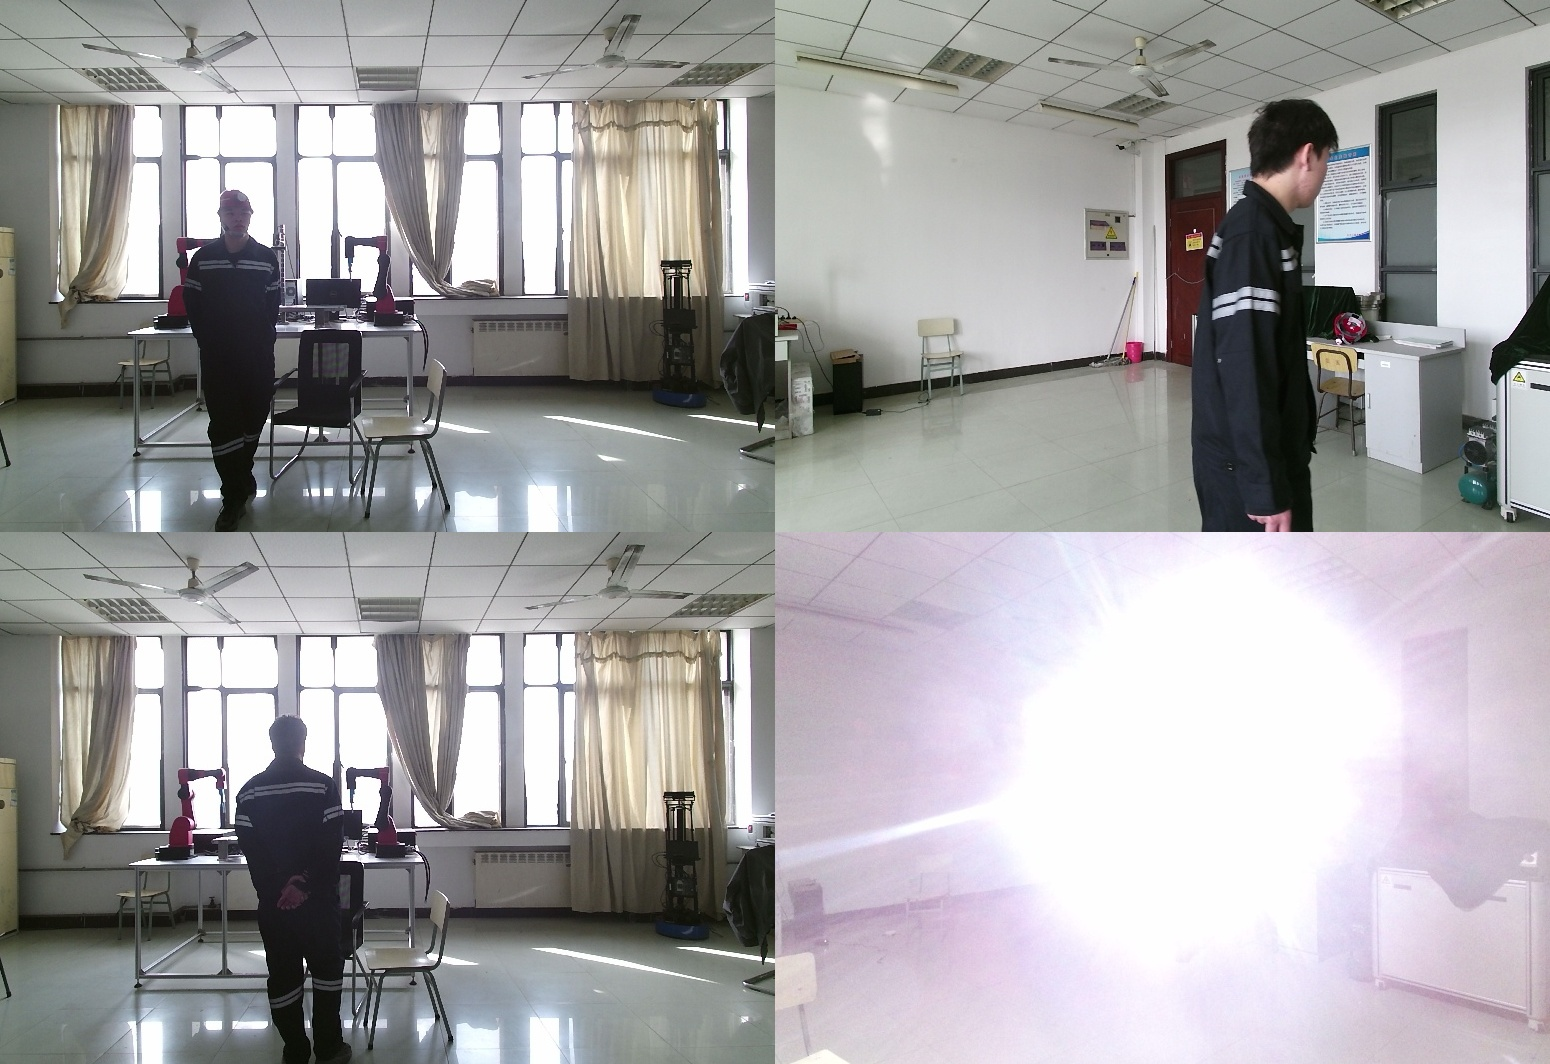person: (1187, 100, 1335, 532), (233, 717, 361, 1064), (179, 189, 290, 532), (1149, 747, 1226, 963)
